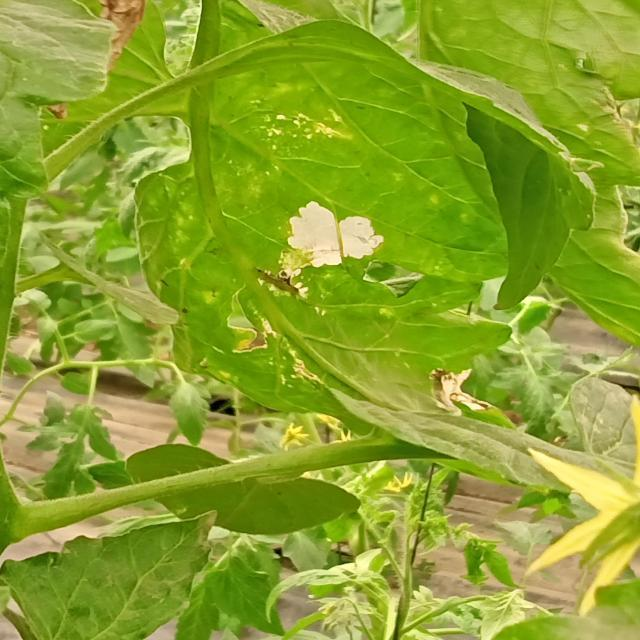Tuta absoluta: (266, 186, 388, 280)
